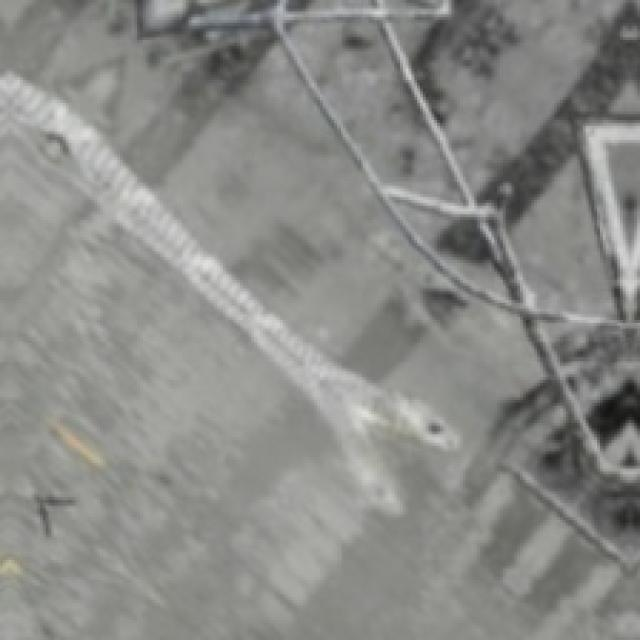king cobra: (0, 0, 637, 637), (294, 23, 449, 194)
